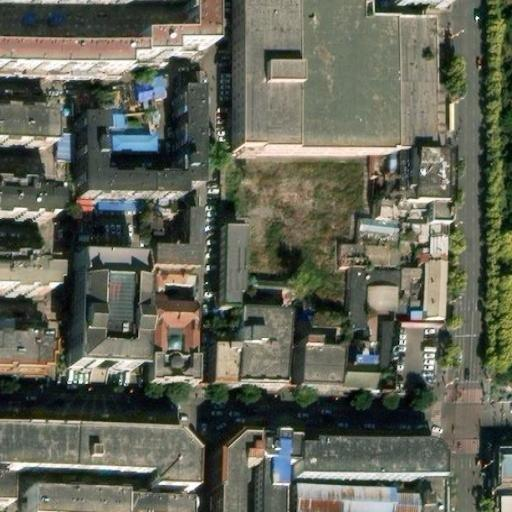building: (0, 0, 204, 70), (81, 92, 200, 203), (68, 250, 136, 369), (209, 308, 284, 385), (300, 447, 441, 481), (251, 433, 295, 512), (145, 308, 191, 380), (211, 433, 252, 512), (352, 205, 424, 242), (26, 496, 189, 512), (154, 220, 199, 275), (0, 243, 50, 283), (295, 344, 339, 389), (405, 161, 443, 213), (0, 170, 47, 209), (216, 227, 239, 305), (0, 100, 46, 137), (335, 239, 397, 266), (392, 480, 441, 512), (419, 268, 442, 325), (364, 274, 396, 314), (0, 338, 37, 372), (395, 268, 416, 323), (0, 312, 41, 339), (348, 269, 365, 325), (102, 136, 152, 155), (427, 221, 445, 269), (495, 446, 512, 492), (53, 131, 74, 161), (380, 320, 390, 370), (353, 361, 375, 376), (338, 381, 374, 390), (496, 490, 511, 511), (0, 482, 8, 510)
